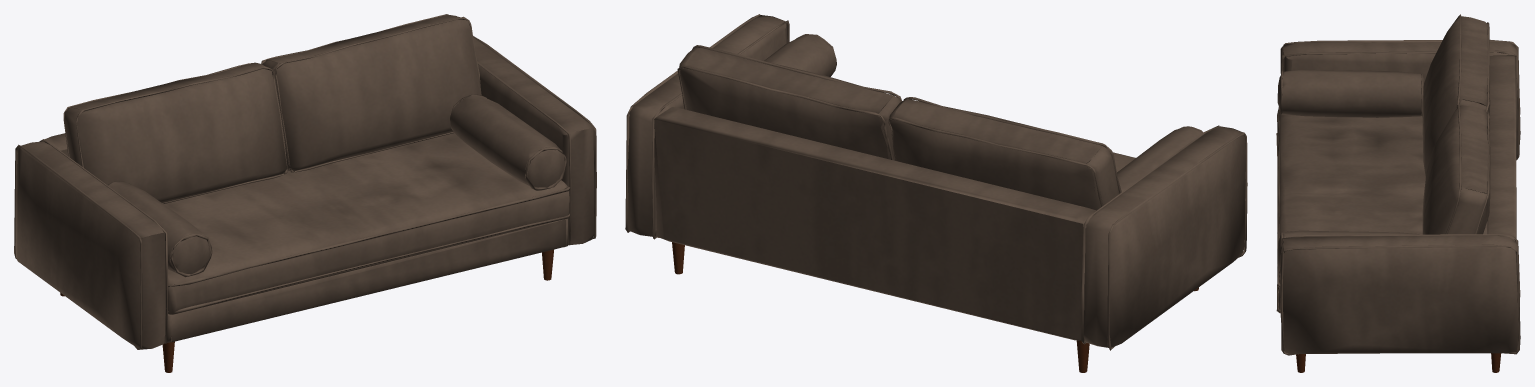
3 renders of one model, left to right at view 1: azimuth 30°, elevation 25°; view 2: azimuth 150°, elevation 25°; view 3: azimuth 270°, elevation 25°, orthographic. The views are drawn at different scales.
Visible parts, largest first — view 1: visual_RootNode; view 2: visual_RootNode; view 3: visual_RootNode.
Boxes of the visible parts, <box> form: visual_RootNode: <box>14,14,596,372</box>; visual_RootNode: <box>625,14,1247,372</box>; visual_RootNode: <box>1276,14,1520,372</box>.
Bounding box in the file's own units: 1.88 × 0.9198 × 0.7706.
Materials: 1 (1 with a texture image).
